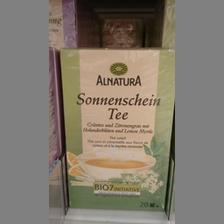Tee: (59, 45, 174, 211)
